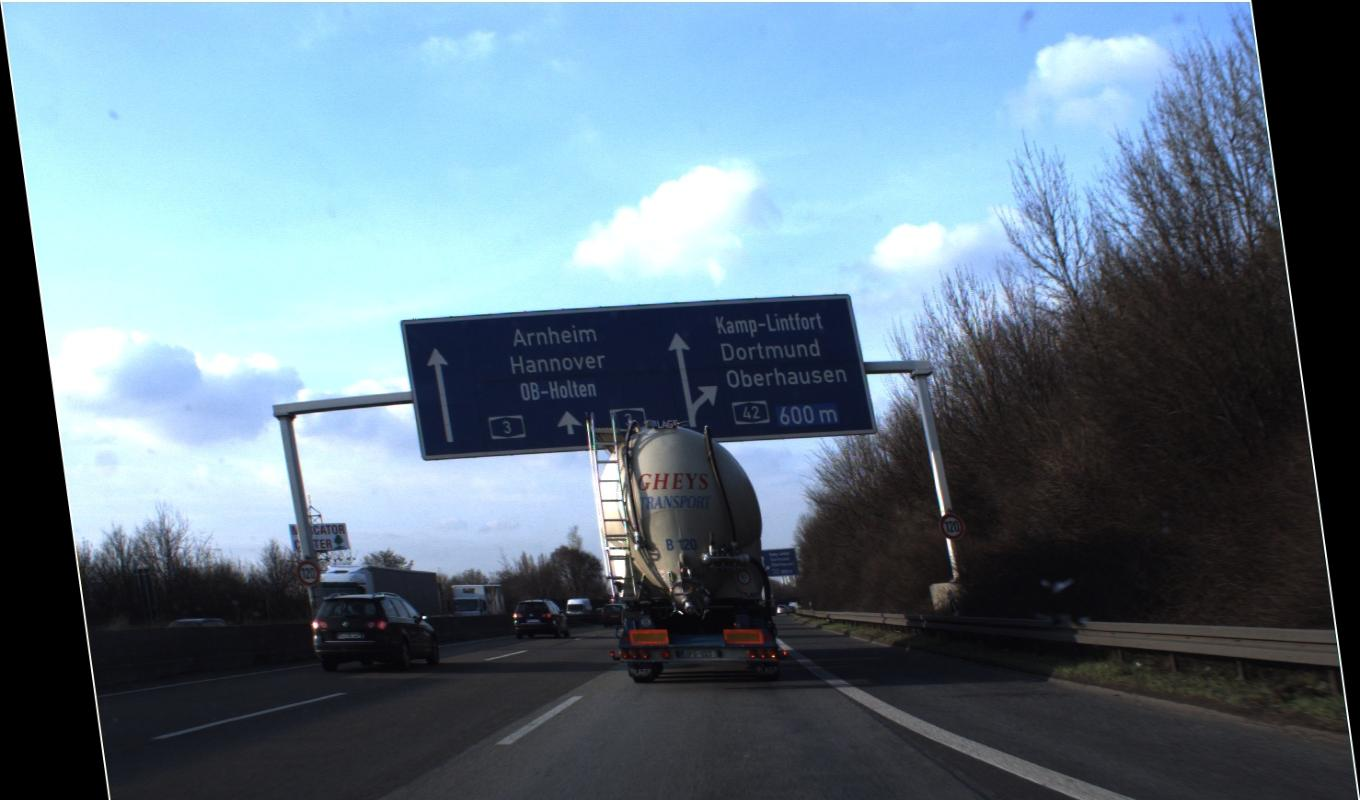speed limit 120: (293, 512, 965, 586)
